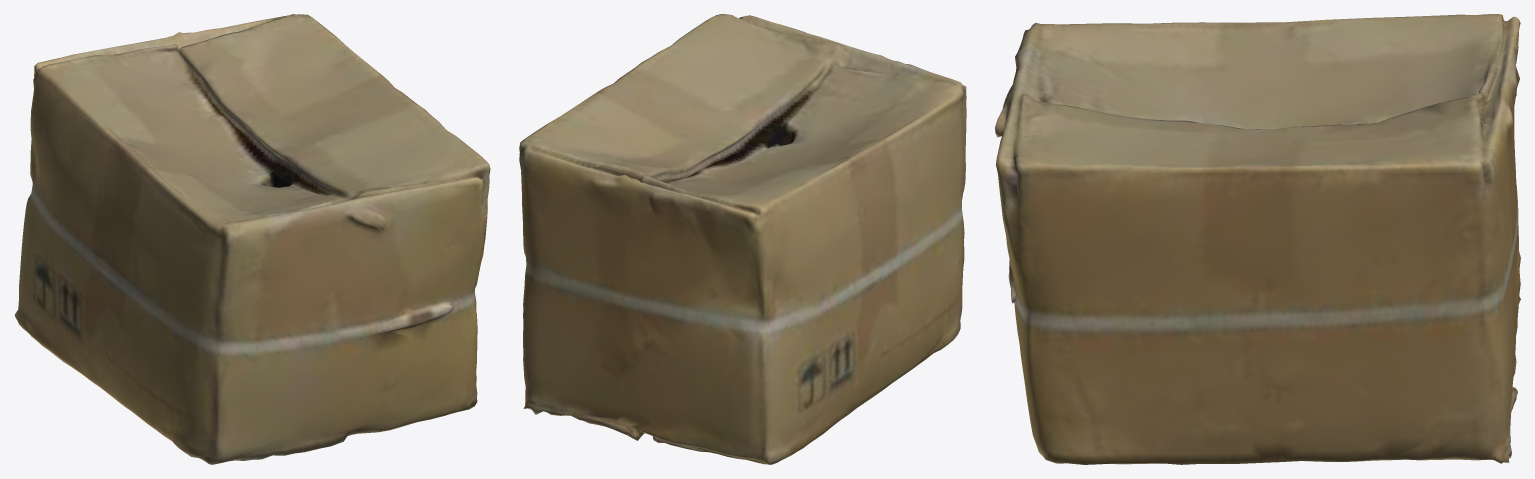
The model's file is cardboard_box_01.415148d7.glb.
3 views of the same model, side by side, from view 1: azimuth 30°, elevation 25°; view 2: azimuth 150°, elevation 25°; view 3: azimuth 270°, elevation 25° (orthographic). The views are drawn at different scales.
Parts seen in each view (by area): view 1: cardboard_box_01; view 2: cardboard_box_01; view 3: cardboard_box_01.
Part boxes in pixels (x1,y1,x2,y2): cardboard_box_01: [14, 14, 490, 464]; cardboard_box_01: [519, 14, 966, 464]; cardboard_box_01: [995, 14, 1520, 464].
Size of the model in its own units: 0.387 by 0.3418 by 0.5159.
1 material, 1 textured.
